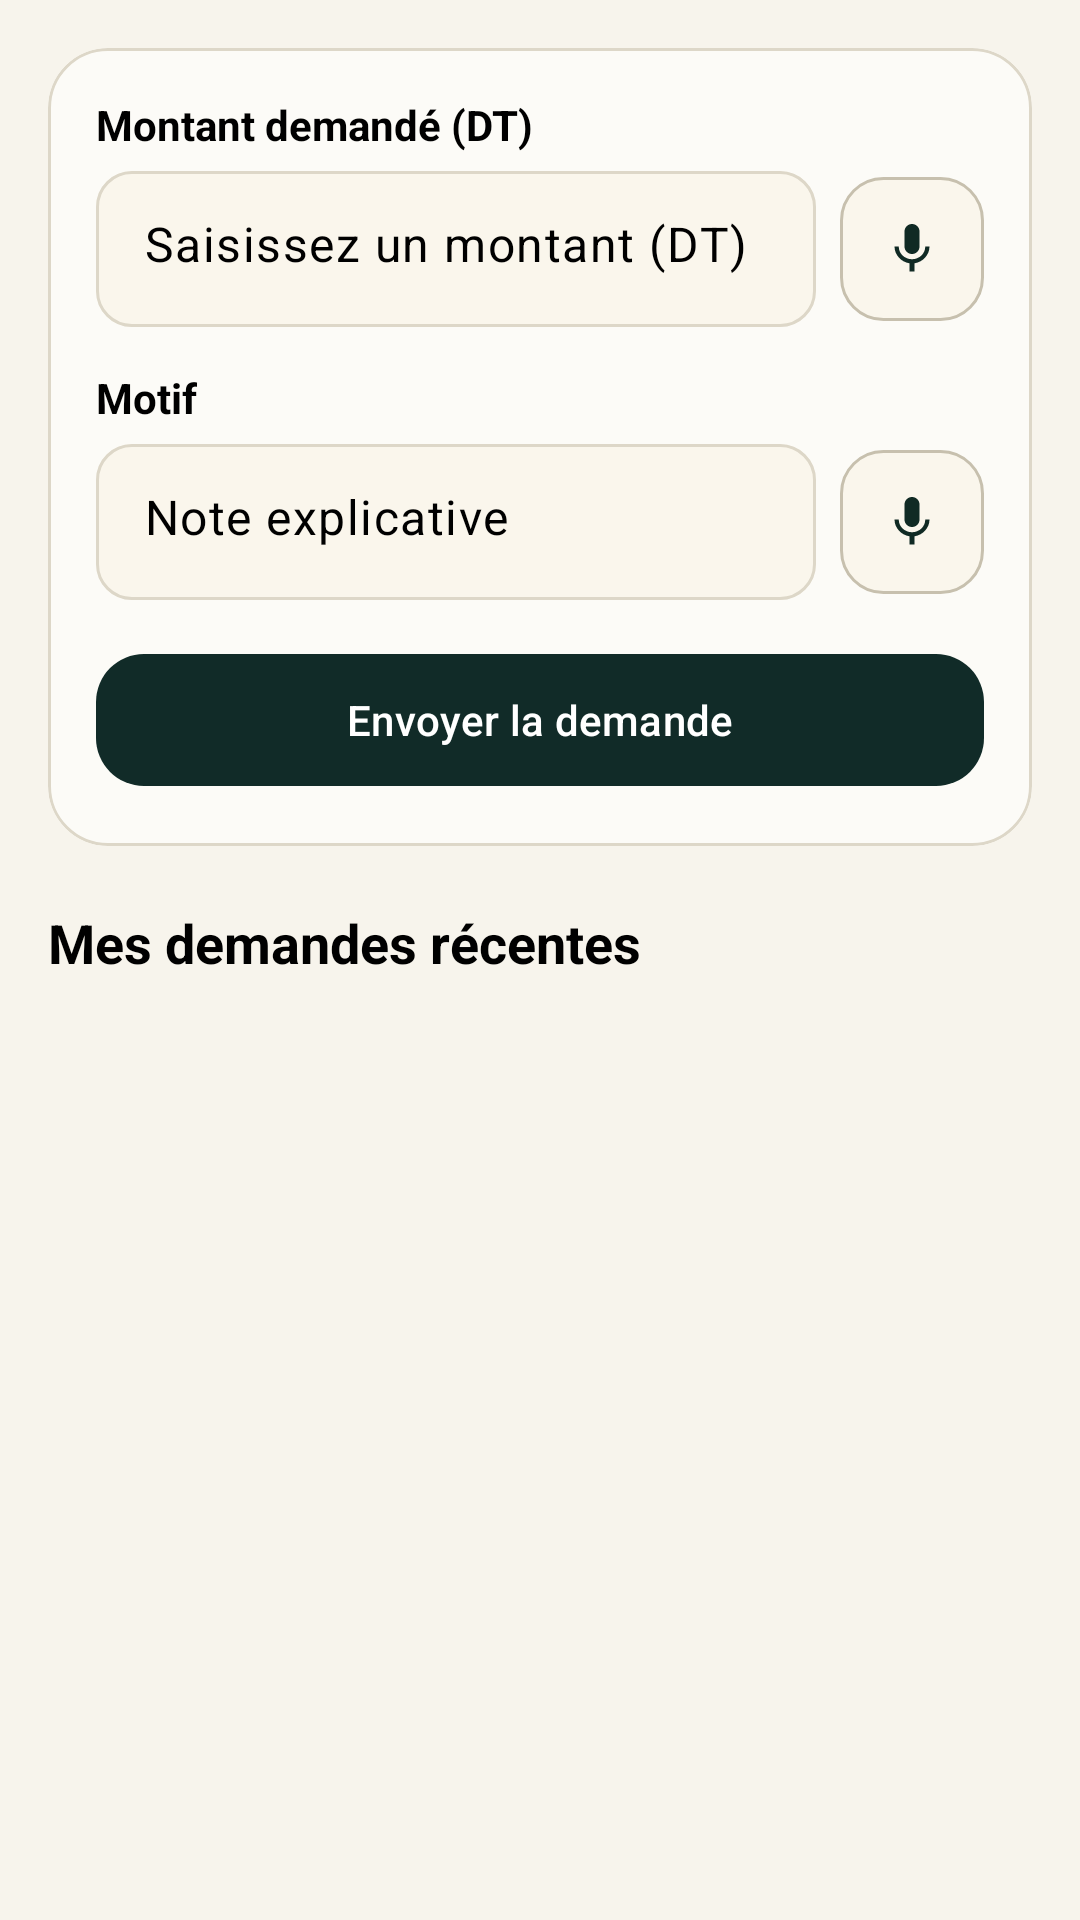

Screen size 1080 x 1920. Icon name, then its center in pixels as (x=x, y=y):
Dicter ce champ par la voix: (x=912, y=249), (x=912, y=522)
